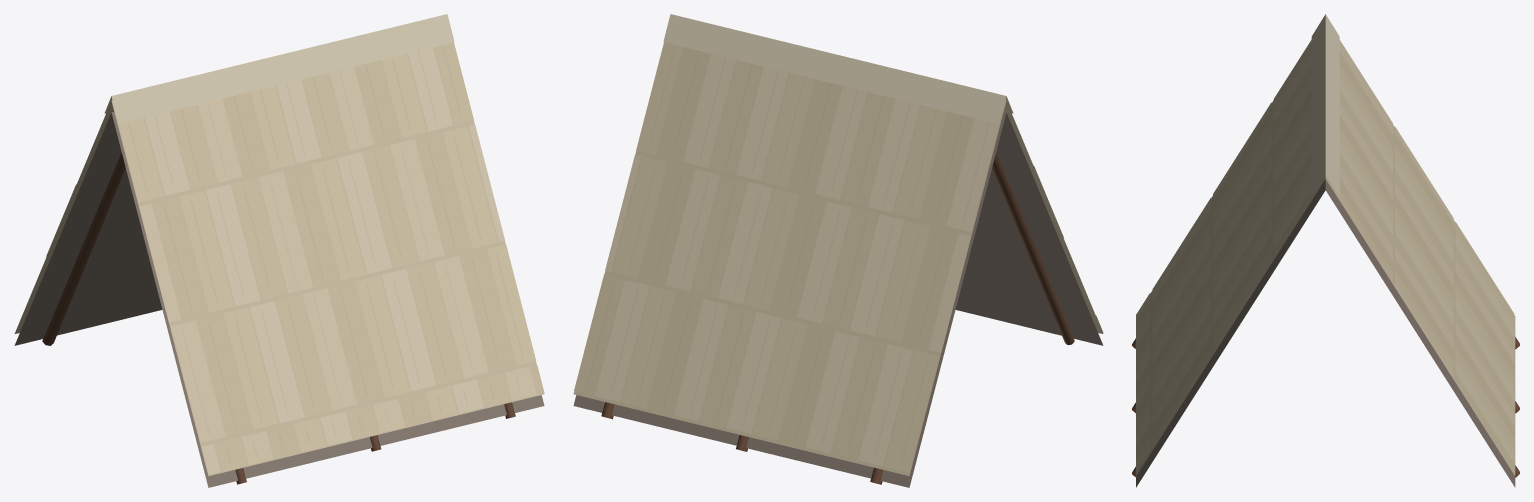
Rendered from Roof_Ridge_60.glb.
3 views of the same model, side by side, from view 1: azimuth 30°, elevation 25°; view 2: azimuth 150°, elevation 25°; view 3: azimuth 270°, elevation 25° (orthographic). The views are drawn at different scales.
Visible parts, largest first — view 1: _MeshInstance3D_3525, _MeshInstance3D_3521, _MeshInstance3D_3530, _MeshInstance3D_3522; view 2: _MeshInstance3D_3521, _MeshInstance3D_3525, _MeshInstance3D_3529, _MeshInstance3D_3526; view 3: _MeshInstance3D_3521, _MeshInstance3D_3525, _MeshInstance3D_3529, _MeshInstance3D_3530.
Part boxes in pixels (x1,y1,x2,y2): _MeshInstance3D_3525: (111,42,544,487); _MeshInstance3D_3521: (14,99,162,345); _MeshInstance3D_3530: (111,14,454,123); _MeshInstance3D_3522: (42,152,125,345); _MeshInstance3D_3521: (573,42,1006,487); _MeshInstance3D_3525: (955,101,1103,345); _MeshInstance3D_3529: (663,14,1006,123); _MeshInstance3D_3526: (992,151,1074,344); _MeshInstance3D_3521: (1325,40,1515,487); _MeshInstance3D_3525: (1136,40,1325,487); _MeshInstance3D_3529: (1325,14,1339,196); _MeshInstance3D_3530: (1311,14,1325,196).
Bounding box in the file's own units: 3 × 2.79 × 3.07.
